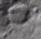crater: (2, 2, 34, 33)
